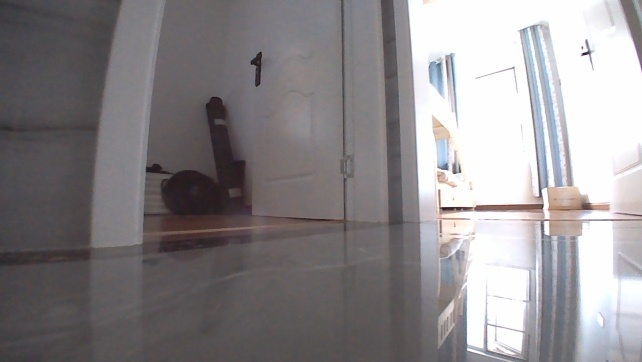door_anno: (244, 0, 385, 224)
